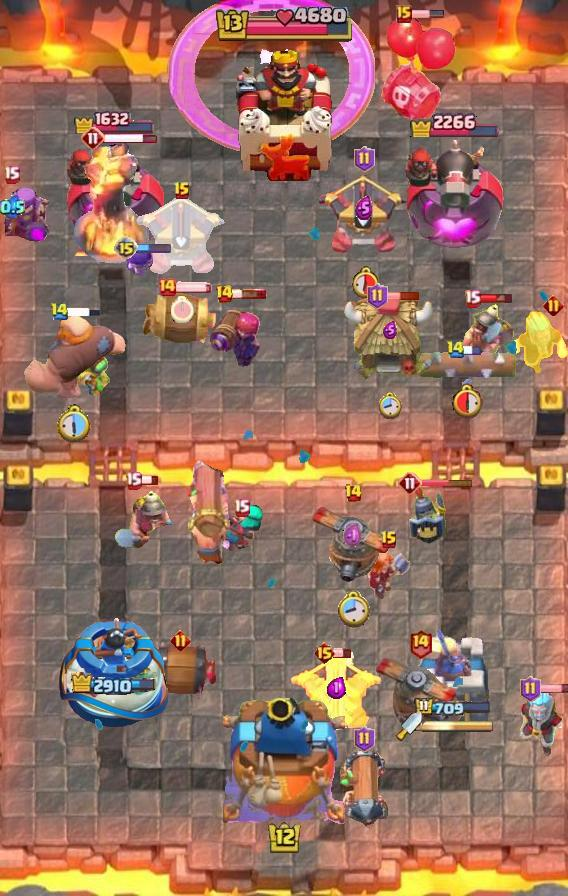balloon: (23, 310, 127, 402)
bandit: (452, 299, 516, 373), (113, 485, 181, 551)
bar: (414, 623, 492, 731)
battle-healer: (184, 452, 232, 566), (340, 743, 388, 833)
clock: (213, 7, 355, 45)
dark-prince: (304, 500, 402, 582), (373, 649, 467, 731)
electro-dragon: (73, 139, 151, 267)
electro-spirit: (0, 196, 24, 221), (343, 522, 364, 549), (326, 676, 345, 700), (355, 196, 373, 220), (383, 321, 397, 339)
elixir: (57, 404, 93, 443), (452, 382, 486, 419), (337, 591, 370, 629), (351, 266, 377, 298), (378, 392, 402, 420), (171, 296, 194, 323)
emote: (102, 132, 157, 145), (420, 477, 474, 486), (175, 281, 213, 293), (136, 242, 172, 254), (231, 288, 267, 300), (66, 306, 102, 318), (478, 292, 513, 304), (409, 9, 445, 19), (385, 291, 420, 301), (540, 682, 568, 693), (462, 344, 482, 356), (139, 474, 159, 486), (333, 649, 352, 660)
giant-snowball: (69, 354, 117, 398)
goblin: (127, 245, 154, 279)
hog-rider: (365, 551, 413, 601)
king-tower: (223, 698, 345, 826), (232, 45, 336, 181)
king-tower-bar: (422, 719, 494, 733)
knight-evolution: (168, 0, 375, 154)
lava-pup: (287, 651, 385, 733), (318, 173, 410, 255), (136, 194, 228, 276)
mega-minion: (208, 294, 264, 370)
minion: (417, 347, 521, 381)
mortar: (506, 687, 568, 759), (508, 310, 568, 374)
prince: (343, 292, 437, 382)
princess: (408, 484, 450, 548)
queen-tower: (54, 614, 173, 730)
rascal-girl: (0, 184, 54, 248)
royal-recruit-evolution: (377, 14, 457, 128)
selected: (407, 107, 499, 138), (70, 672, 157, 698), (72, 108, 155, 134), (414, 698, 492, 719)
text: (408, 629, 433, 659), (81, 126, 105, 150), (114, 236, 138, 260), (398, 471, 422, 495), (353, 146, 375, 172), (367, 283, 389, 309), (353, 726, 375, 752), (313, 641, 336, 665), (520, 676, 541, 702), (543, 295, 564, 317), (169, 630, 190, 651), (157, 277, 177, 297), (214, 284, 233, 304), (344, 483, 363, 503), (51, 302, 70, 321), (173, 181, 191, 201), (446, 341, 466, 359), (380, 530, 398, 550), (463, 288, 481, 307), (4, 164, 21, 183), (125, 470, 142, 489), (233, 498, 250, 517), (396, 5, 412, 23)
the-log: (140, 290, 220, 350), (140, 640, 220, 700)
tower-bar: (401, 132, 508, 256), (63, 138, 164, 256)
witch: (218, 505, 264, 551)
